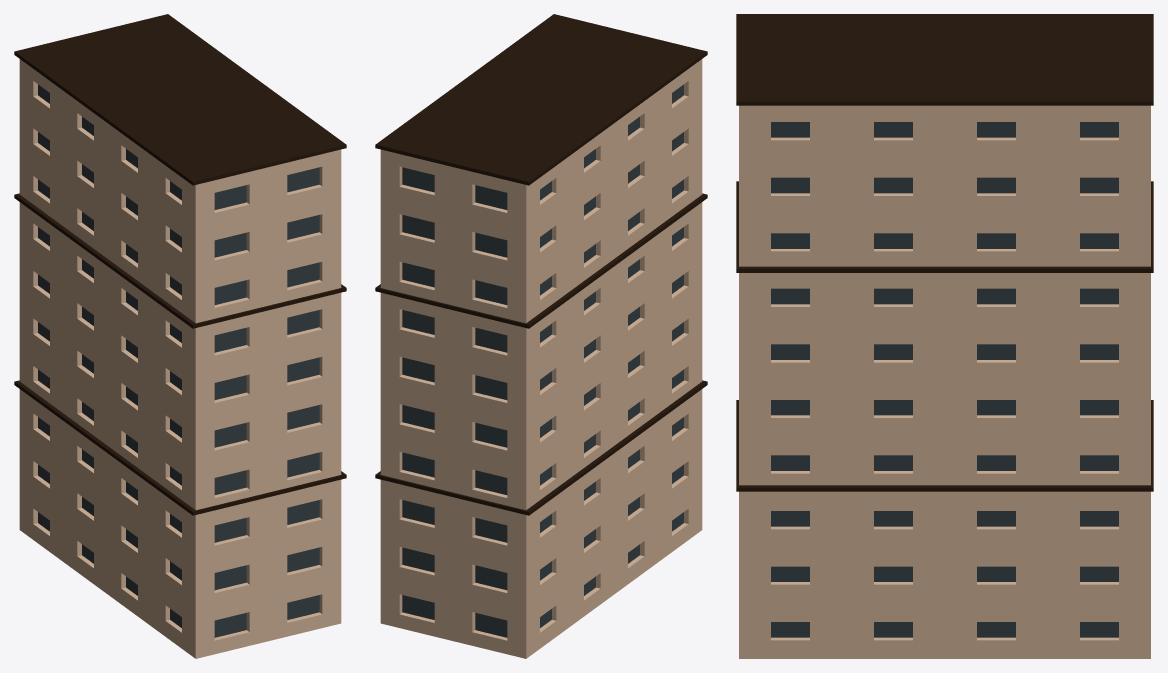
File: building3.glb
3 views of the same model, side by side, from view 1: azimuth 30°, elevation 25°; view 2: azimuth 150°, elevation 25°; view 3: azimuth 270°, elevation 25° (orthographic). The views are drawn at different scales.
Visible parts, largest first — view 1: Cube; view 2: Cube; view 3: Cube.
Part boxes in pixels (box(x1,y1,x2,y2)): Cube: box(14, 14, 346, 658); Cube: box(375, 14, 707, 658); Cube: box(736, 14, 1153, 658).
Bounding box in the file's own units: 2.11 × 6.29 × 4.25.
1 material, 1 textured.
